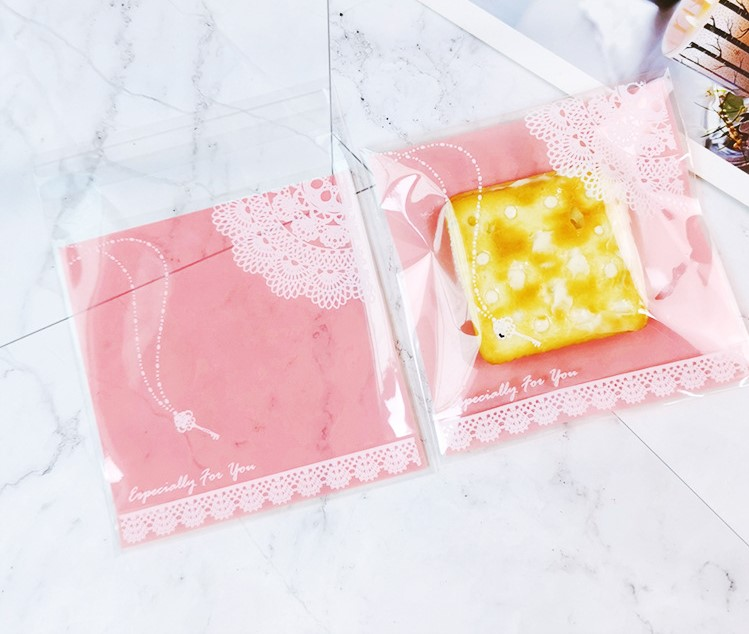Snack: (359, 60, 749, 464)
